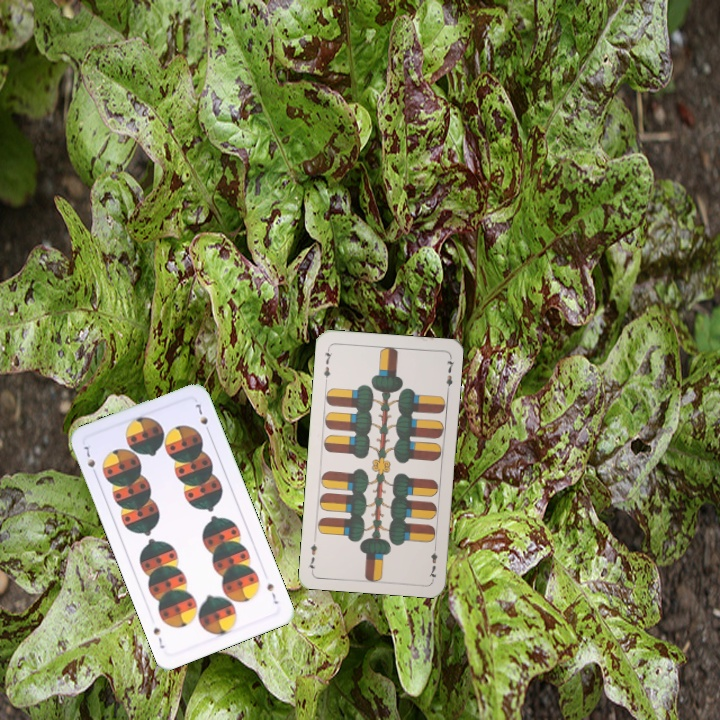E7: (319, 344, 334, 385), (425, 541, 440, 582)
S7: (80, 442, 100, 479), (263, 579, 281, 607)
